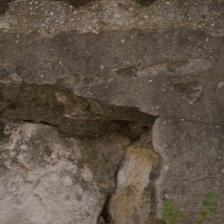Crack: (26, 23, 99, 135), (100, 12, 131, 109)
